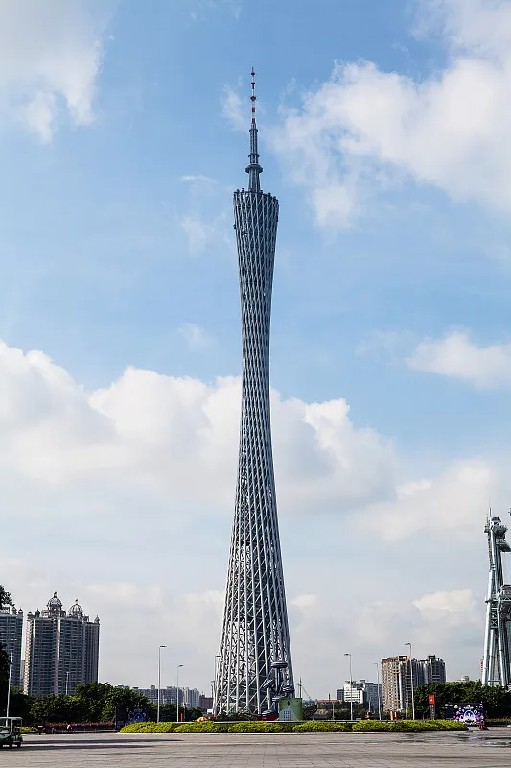Canton: (210, 65, 299, 725)
